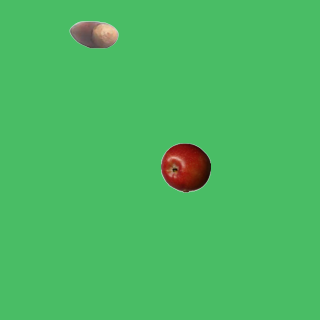Apple Braeburn: (160, 142, 210, 192)
Hazelnut: (68, 9, 118, 59)
